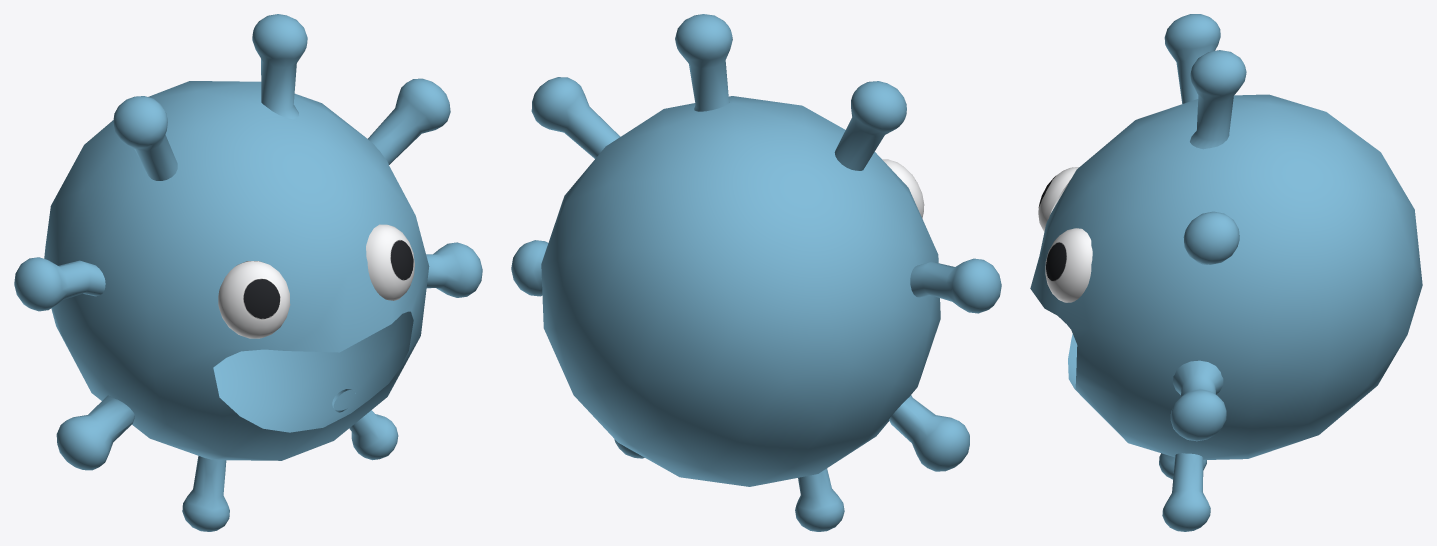
The model's file is 조명용 세균.FBX.
3 renders of one model, left to right at view 1: azimuth 30°, elevation 25°; view 2: azimuth 150°, elevation 25°; view 3: azimuth 270°, elevation 25°, orthographic. The views are drawn at different scales.
Visible parts, largest first — view 1: GeoSphere002; view 2: GeoSphere002; view 3: GeoSphere002.
Part boxes in pixels (bbox=[...]): GeoSphere002: bbox=[14, 14, 482, 531]; GeoSphere002: bbox=[511, 14, 1001, 531]; GeoSphere002: bbox=[1030, 14, 1422, 531].
Size of the model in its own units: 45.82 by 45.66 by 34.61.
1 material, 1 textured.
